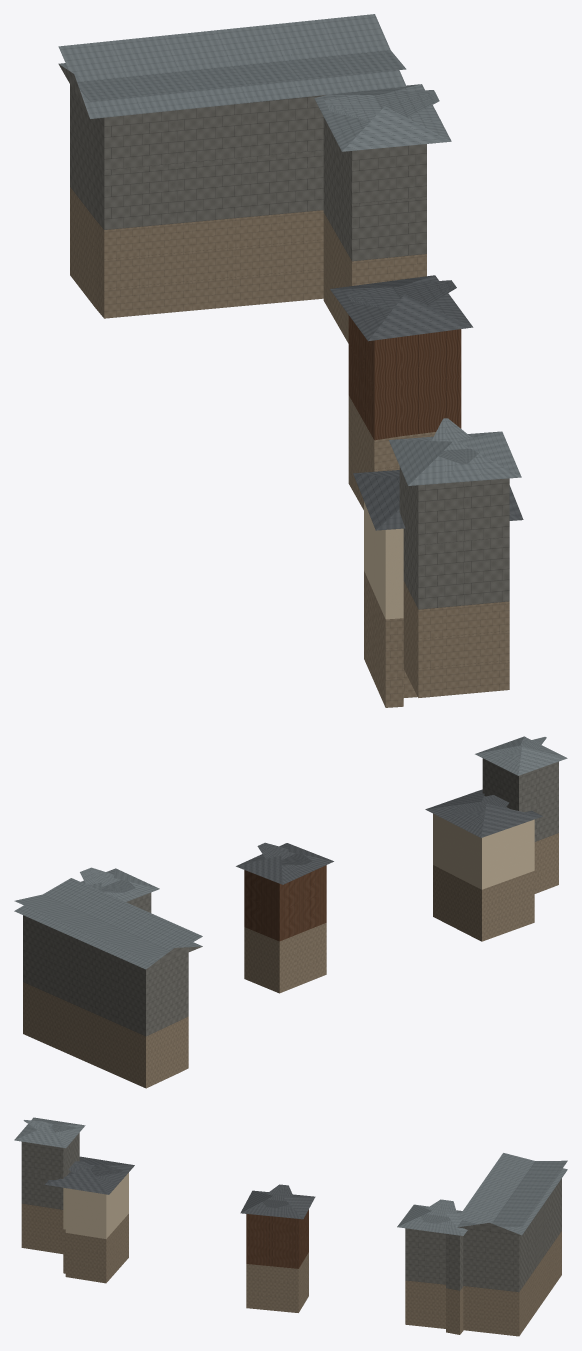
File: bld_c3_18_460.gltf
3 renders of one model, top to bottom at view 1: azimuth 30°, elevation 25°; view 2: azimuth 150°, elevation 25°; view 3: azimuth 270°, elevation 25°, orthographic. The views are drawn at different scales.
Parts seen in each view (by area): view 1: bld_c3_18_460; view 2: bld_c3_18_460; view 3: bld_c3_18_460.
Part boxes in pixels (box(x1,y1,x2,y2)): bld_c3_18_460: box(58, 14, 523, 707); bld_c3_18_460: box(14, 736, 567, 1088); bld_c3_18_460: box(14, 1117, 567, 1336).
Size of the model in its own units: 27.45 by 15.7 by 57.85.
7 materials, 7 textured.
